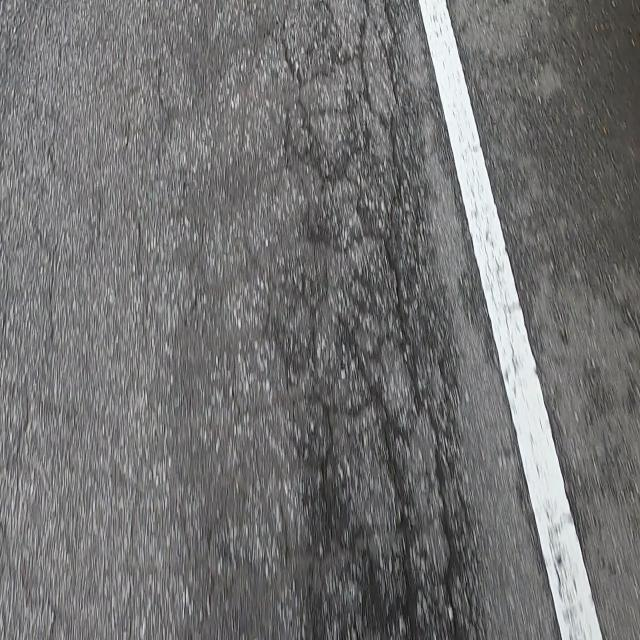Retak-Buaya: (259, 0, 482, 638)
